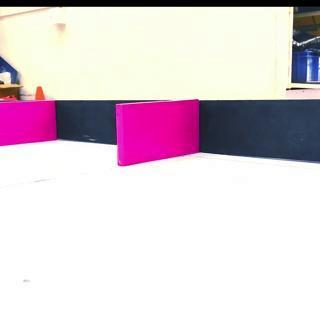xparking: (118, 102, 199, 162), (0, 102, 58, 144)
